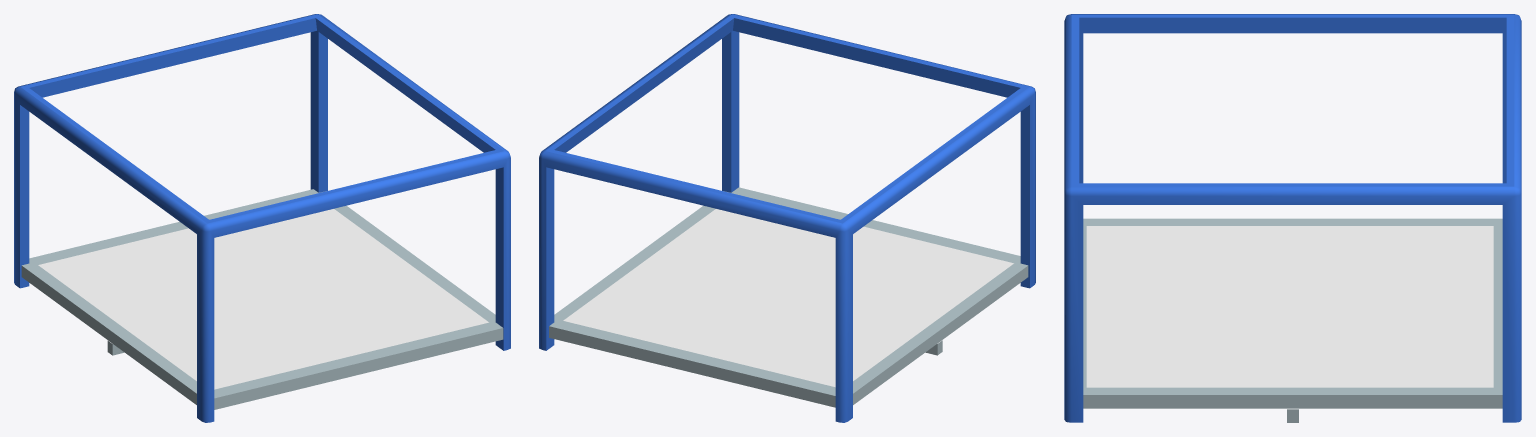
The model's file is huanchongqu.gltf.
The picture shows the model from 3 angles, left to right: view 1: azimuth 30°, elevation 25°; view 2: azimuth 150°, elevation 25°; view 3: azimuth 270°, elevation 25°; orthographic projection. The views are drawn at different scales.
Parts seen in each view (by area): view 1: 缓冲区; view 2: 缓冲区; view 3: 缓冲区.
Part boxes in pixels (x1,y1,x2,y2): 缓冲区: (14,14,510,422); 缓冲区: (539,14,1035,422); 缓冲区: (1064,14,1521,422).
Bounding box in the file's own units: 203 × 124 × 220.
